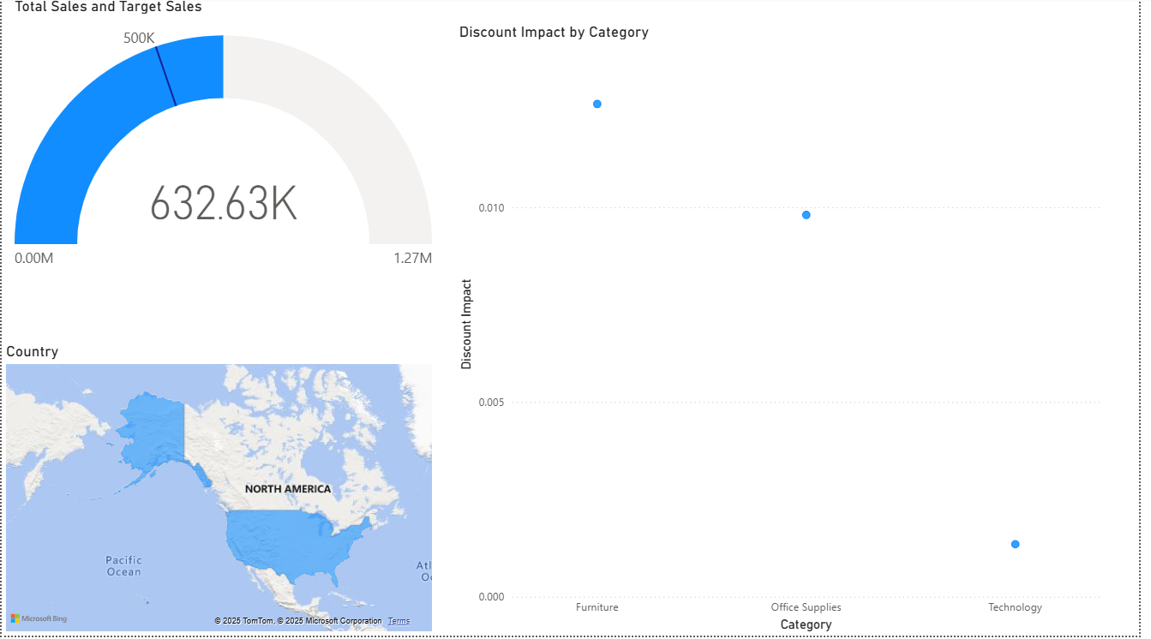

The dashboard page shown, as its layout file describes it:
{"tool":"powerbi","page":{"name":"Page 2","canvas":[1280,720],"ordinal":1},"visuals":[{"type":"gauge","fields":{"TargetValue":["Sheet2.Target Sales"],"Y":["Sheet2.Total Sales"]},"box":[9.7,0,480.2,318.5],"z":0},{"type":"scatterChart","fields":{"Y":["Sheet2.Discount Impact"],"X":["Sheet2.Category"]},"box":[510.3,29,731.1,691.3],"z":1000},{"type":"filledMap","fields":{"Category":["Sheet2.Country"]},"box":[0,389.7,489.8,330.6],"z":2000}]}

Visuals, with their boxes in screenshot pixels (x1, y1, x2, y2), scaled from the page's 1280x720 canvas onto the 1151x639 screenshot:
gauge - Sheet2.Target Sales x Sheet2.Total Sales: <bbox>9, 0, 441, 283</bbox>
scatterChart - Sheet2.Discount Impact x Sheet2.Category: <bbox>459, 26, 1116, 638</bbox>
filledMap - Sheet2.Country: <bbox>0, 346, 440, 638</bbox>
